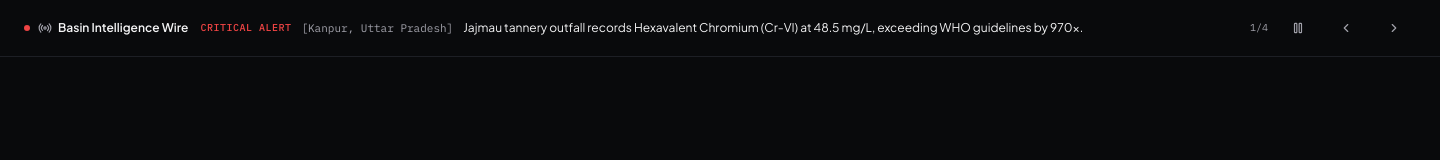
Test case: Tier 2: Component Navigation & Application Shell › cycles and pauses alerts in AlertTicker
The width and height of the screenshot is (1440, 160).
Later steps or results of the test are not shown.
Expected: the text "Basin Intelligence Wire" is shown, [58,20,188,36]
Step 1. Click the button named "Pause alert ticker" → (1298, 28), box [1276,6,1320,50]
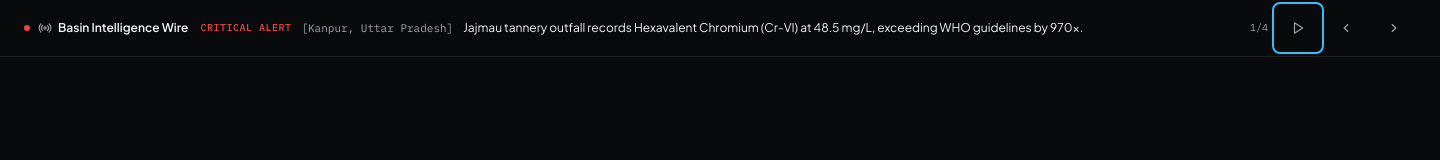
Expected: the button named "Resume alert ticker" is shown, [1276,6,1320,50]
